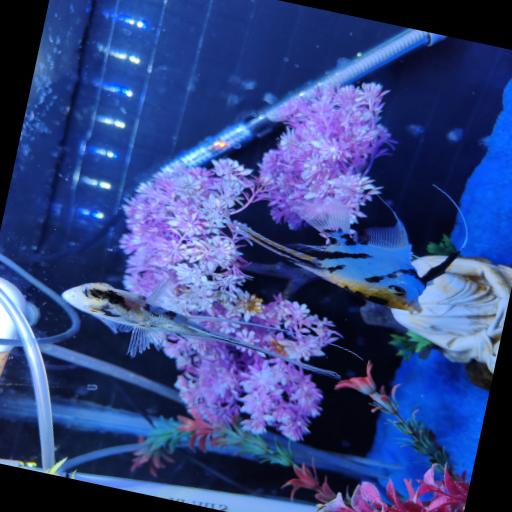Fish: (62, 280, 340, 378), (238, 197, 460, 314)
